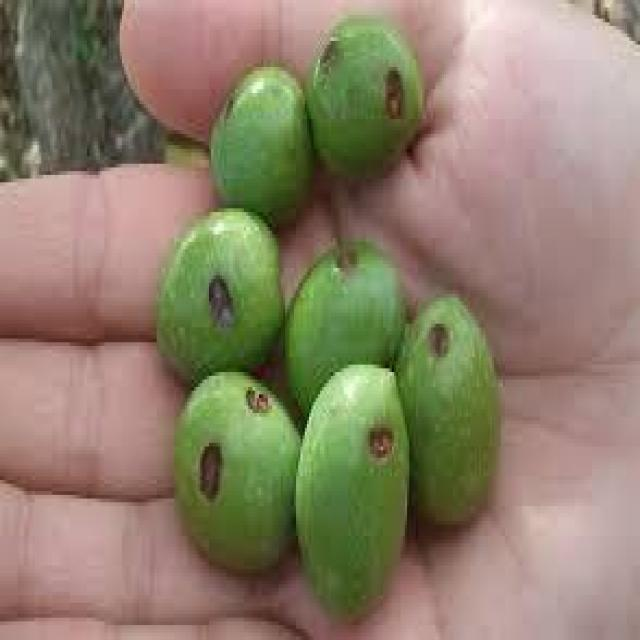Anthracnose: (296, 365, 407, 614), (174, 376, 298, 569), (396, 294, 498, 521), (157, 208, 281, 384), (287, 238, 398, 413), (307, 19, 422, 174)
